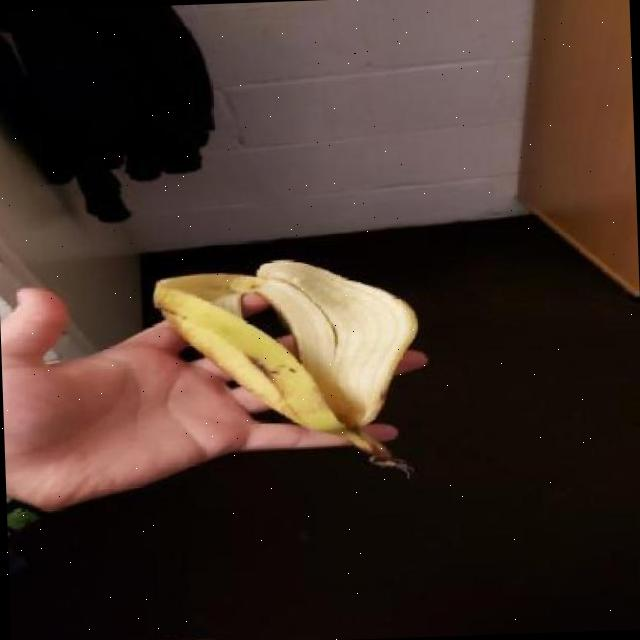banana-peel: (148, 250, 424, 482)
